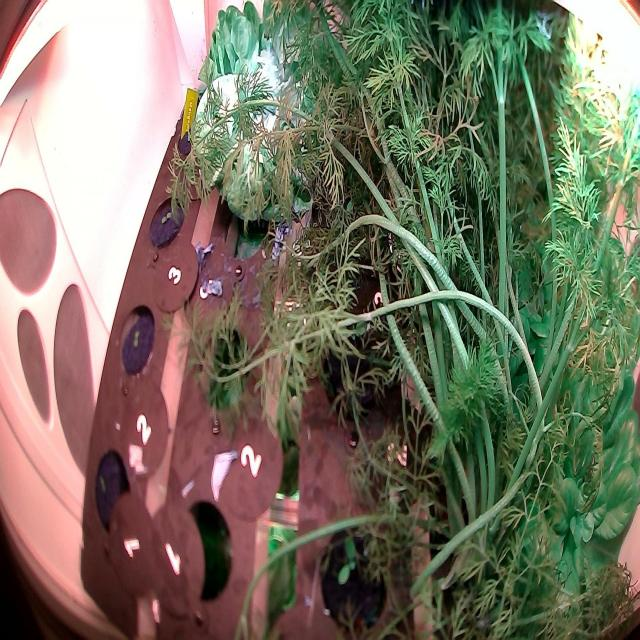empty_pod: (170, 491, 243, 612), (218, 184, 278, 270)
germination: (308, 512, 394, 637), (85, 443, 144, 535), (109, 296, 166, 382), (144, 180, 190, 255)
